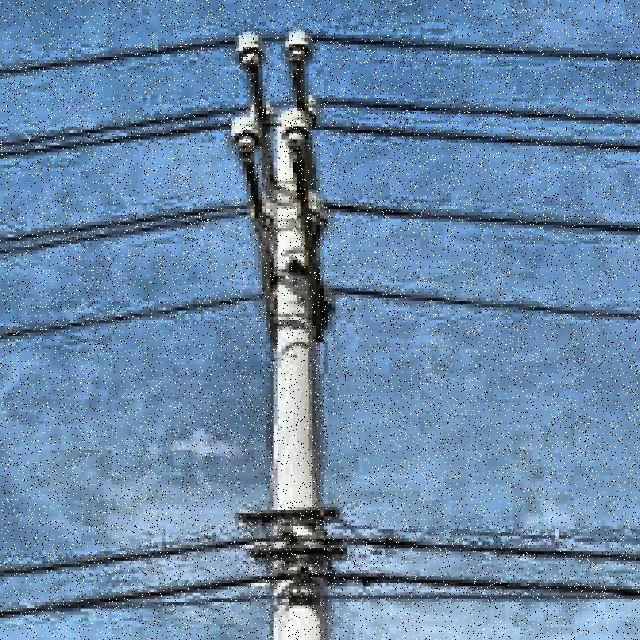pole: (248, 119, 323, 639)
wire: (0, 100, 640, 164), (0, 195, 640, 257), (0, 288, 640, 345), (0, 31, 640, 79), (0, 535, 640, 581), (0, 571, 640, 616)
